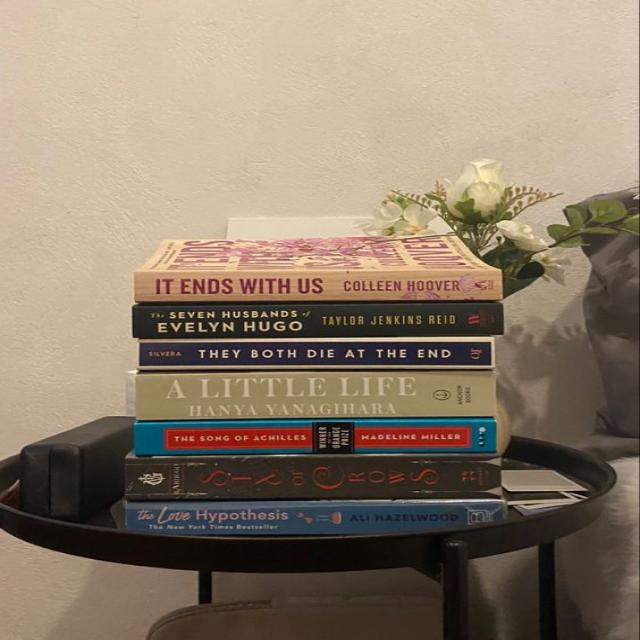book: (132, 372, 505, 419), (126, 456, 499, 499), (133, 418, 498, 456), (123, 499, 506, 535), (132, 303, 503, 339), (138, 338, 492, 371), (136, 272, 502, 301)
flowers: (373, 159, 558, 290)
